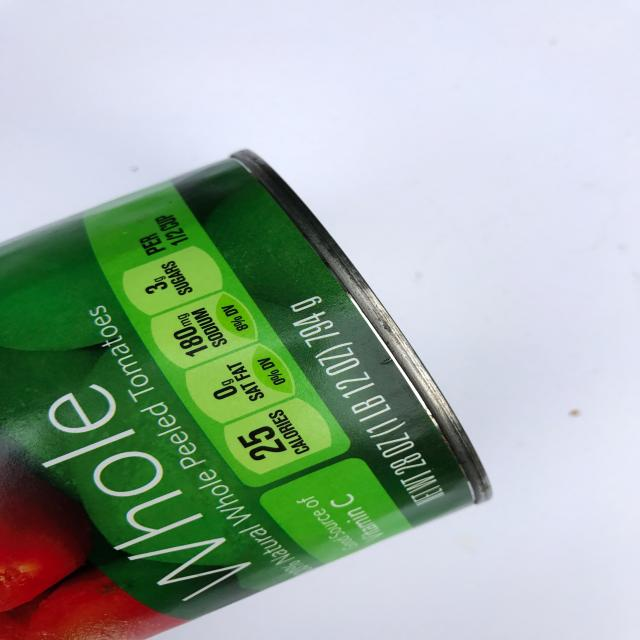Metal: (0, 135, 522, 640)
